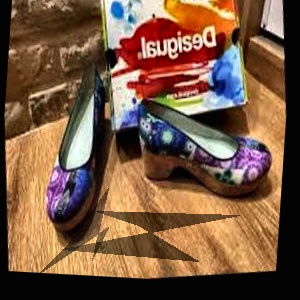desigual: (160, 0, 289, 45)
